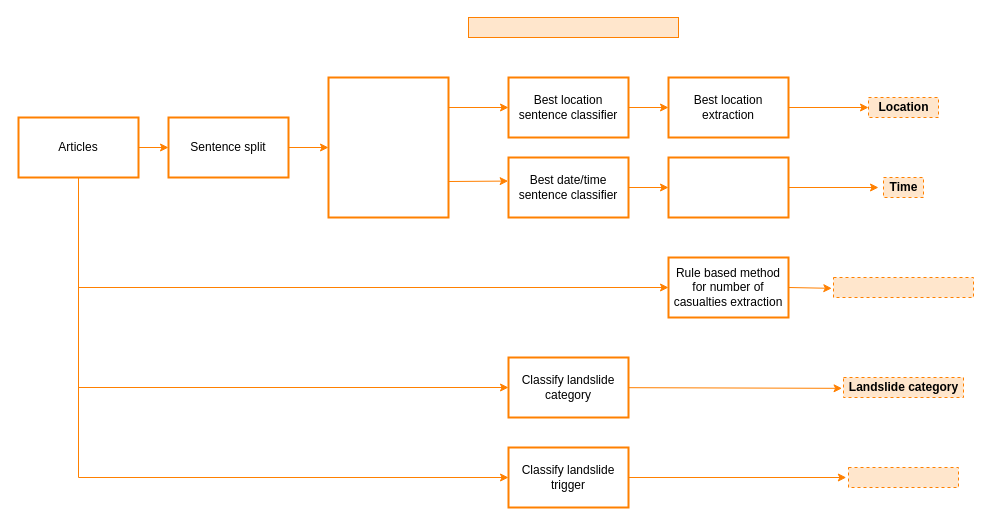
Image size: 991x526. Some labels were removed from this diagram. Here are the shapes that lost their labels. From the top down, the centre of each, then its label:
At (573,27): "Logistic regression classification".
At (388,147): "NER model to extract time and location related entities (Ontonotes large model)".
At (728,187): "Best date/time extraction".
At (903,287): "Number of casualties".
At (903,477): "Landslide trigger".
